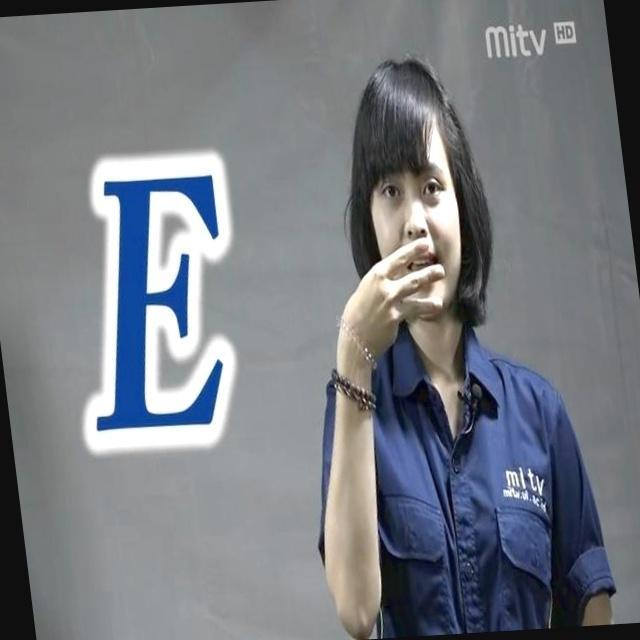E: (322, 228, 462, 364)
